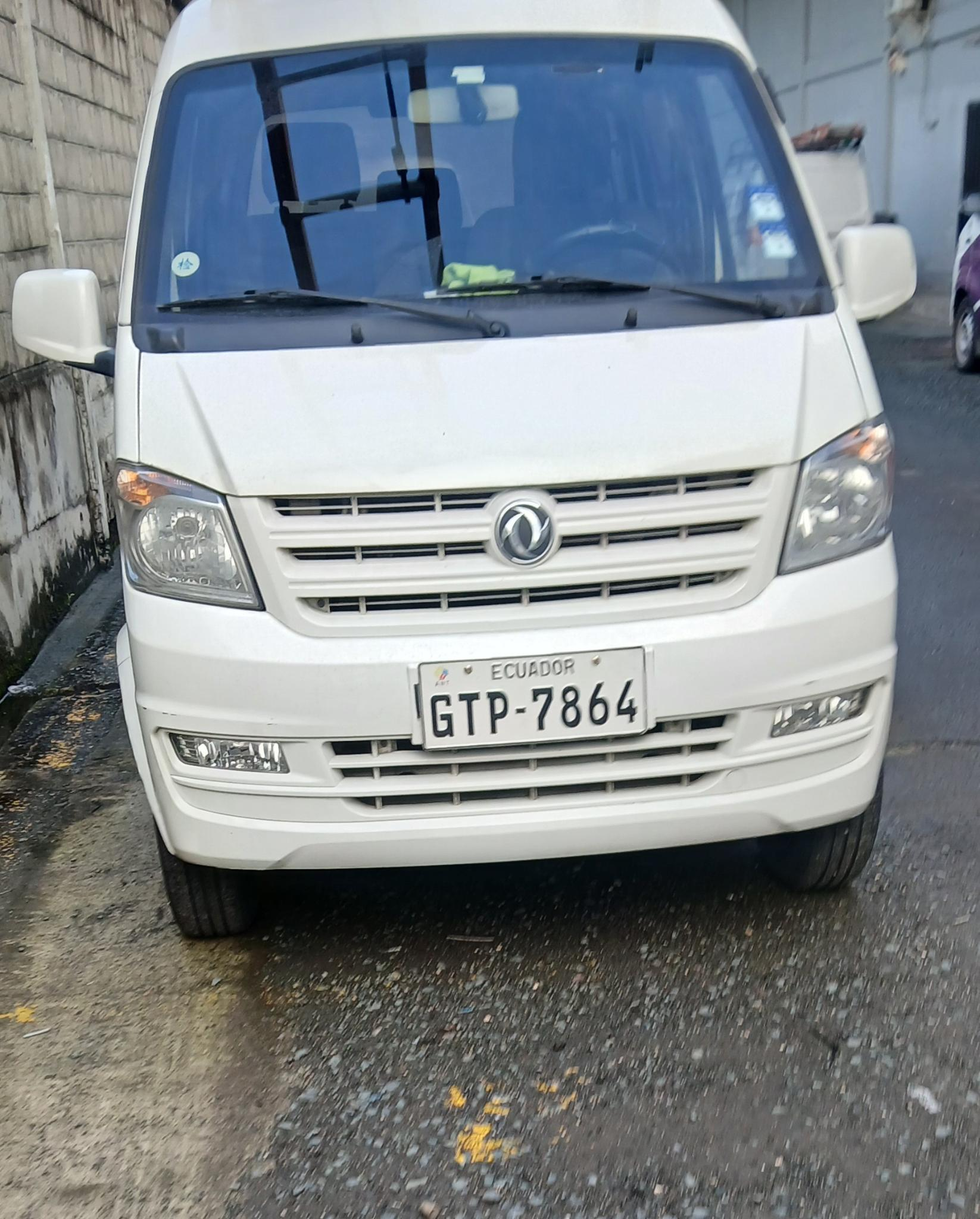license_plate: (413, 649, 645, 747)
